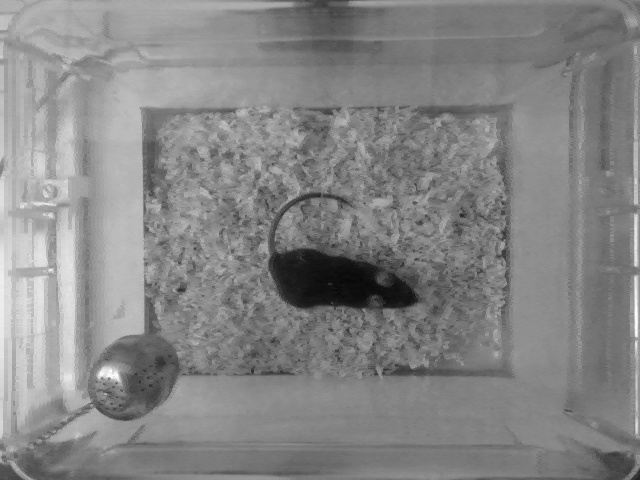mice: (267, 181, 426, 315)
